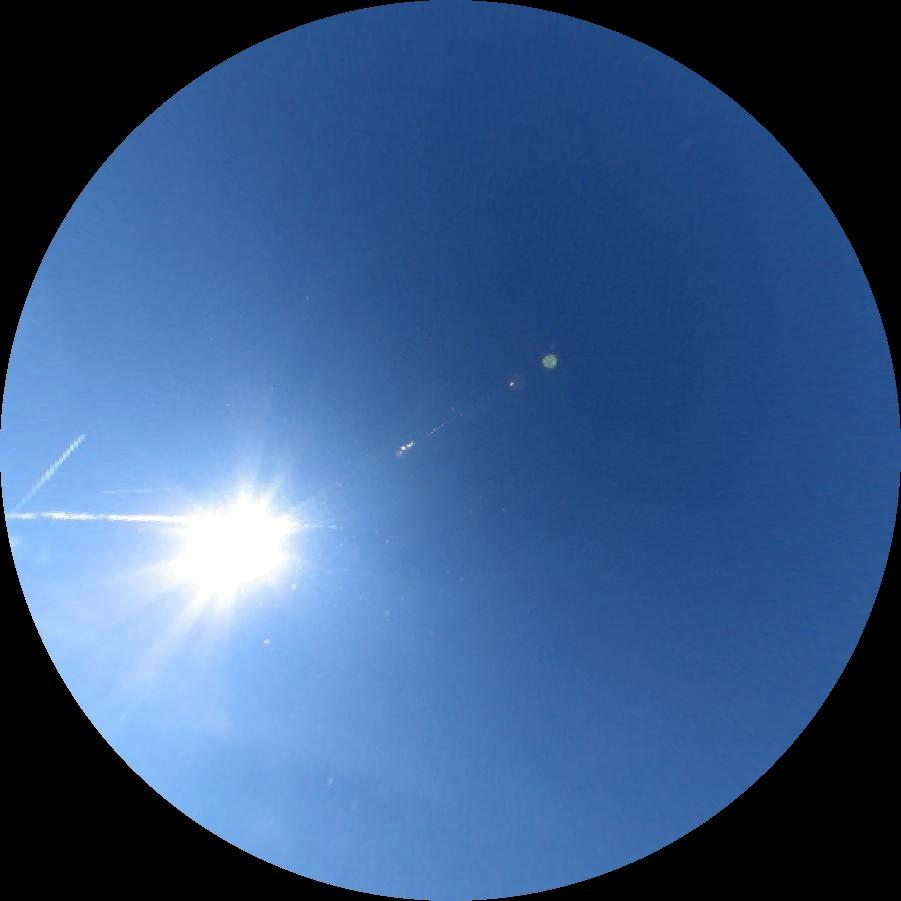contrail young: (9, 432, 89, 518)
parasite: (4, 512, 186, 523), (290, 520, 343, 530), (101, 489, 180, 493)
sun: (170, 484, 295, 609)
